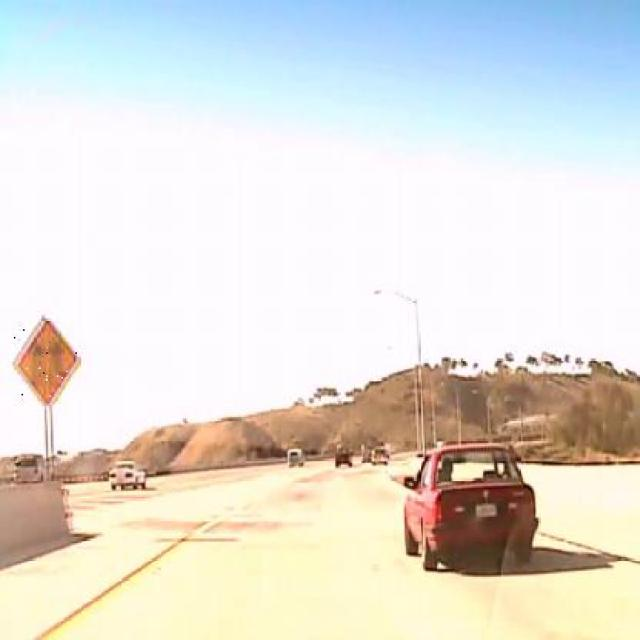addedLane: (14, 317, 80, 405)
